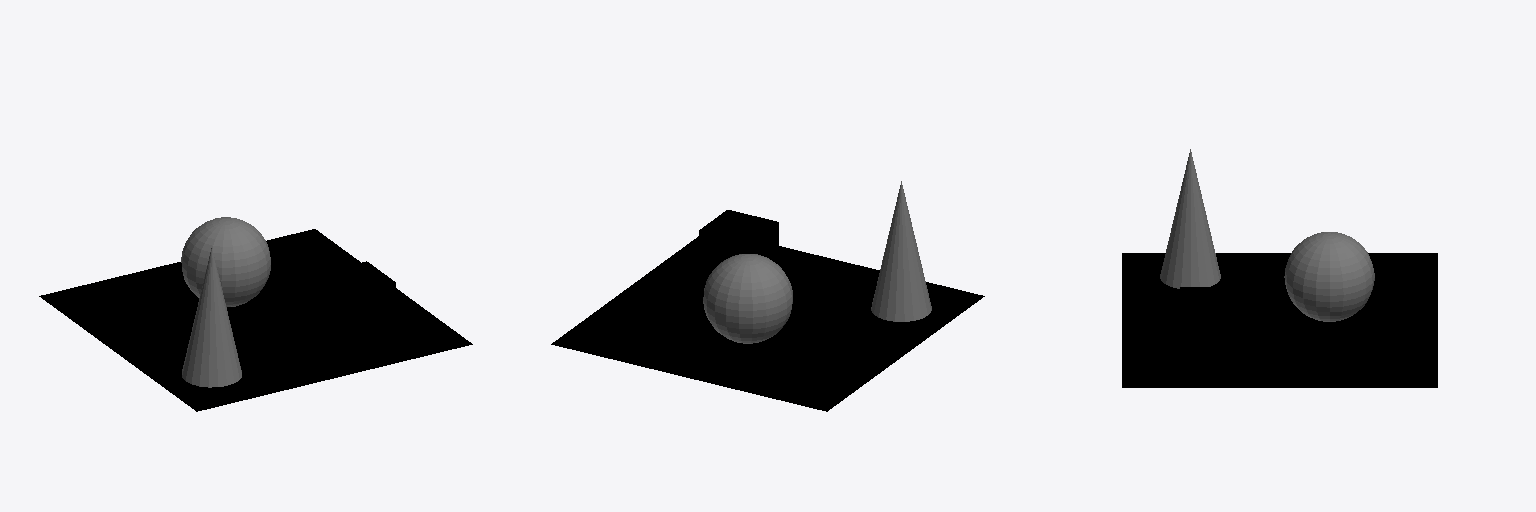
3 views of the same model, side by side, from view 1: azimuth 30°, elevation 25°; view 2: azimuth 150°, elevation 25°; view 3: azimuth 270°, elevation 25° (orthographic).
Visible parts, largest first — view 1: MyPlane scene02 scene01 scene00, scene01 scene00 MyCube AllObjects, scene01 scene00 AllObjects pSphere1, scene01 scene00 AllObjects pCone1; view 2: MyPlane scene02 scene01 scene00, scene01 scene00 AllObjects pSphere1, scene01 scene00 AllObjects pCone1, scene01 scene00 MyCube AllObjects; view 3: MyPlane scene02 scene01 scene00, scene01 scene00 AllObjects pSphere1, scene01 scene00 AllObjects pCone1, scene01 scene00 MyCube AllObjects.
Boxes of the visible parts, x1,y1,x2,y2 form: MyPlane scene02 scene01 scene00: [39, 229, 472, 411]; scene01 scene00 MyCube AllObjects: [315, 261, 395, 346]; scene01 scene00 AllObjects pSphere1: [181, 217, 270, 306]; scene01 scene00 AllObjects pCone1: [182, 248, 241, 387]; MyPlane scene02 scene01 scene00: [551, 236, 984, 411]; scene01 scene00 AllObjects pSphere1: [703, 254, 792, 343]; scene01 scene00 AllObjects pCone1: [871, 181, 931, 321]; scene01 scene00 MyCube AllObjects: [699, 210, 778, 284]; MyPlane scene02 scene01 scene00: [1122, 253, 1437, 387]; scene01 scene00 AllObjects pSphere1: [1284, 232, 1374, 321]; scene01 scene00 AllObjects pCone1: [1160, 149, 1220, 288]; scene01 scene00 MyCube AllObjects: [1180, 287, 1237, 363].
Size of the model in its own units: 19.47 by 8.66 by 19.29.